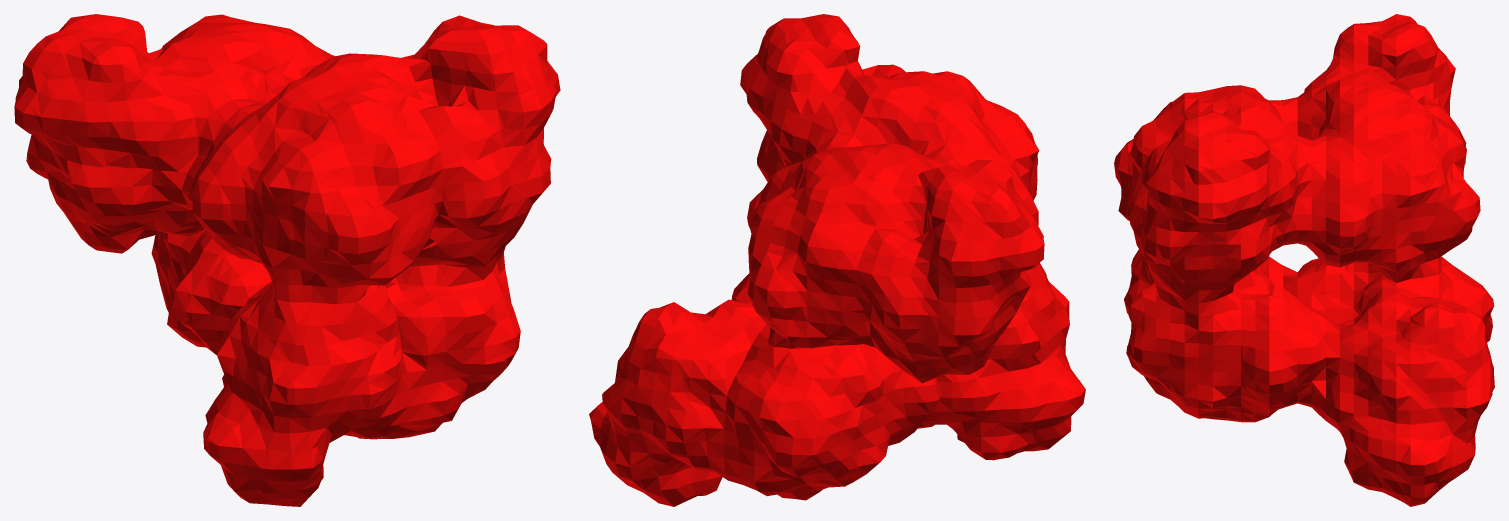
The model's file is wecE_coarse.dae.
The picture shows the model from 3 angles, left to right: view 1: azimuth 30°, elevation 25°; view 2: azimuth 150°, elevation 25°; view 3: azimuth 270°, elevation 25°; orthographic projection. The views are drawn at different scales.
Visible parts, largest first — view 1: wecE; view 2: wecE; view 3: wecE.
Boxes of the visible parts, <box> form: wecE: <box>14,14,560,506</box>; wecE: <box>589,14,1085,506</box>; wecE: <box>1114,14,1494,506</box>.
Bounding box in the file's own units: 132 × 119 × 113.
